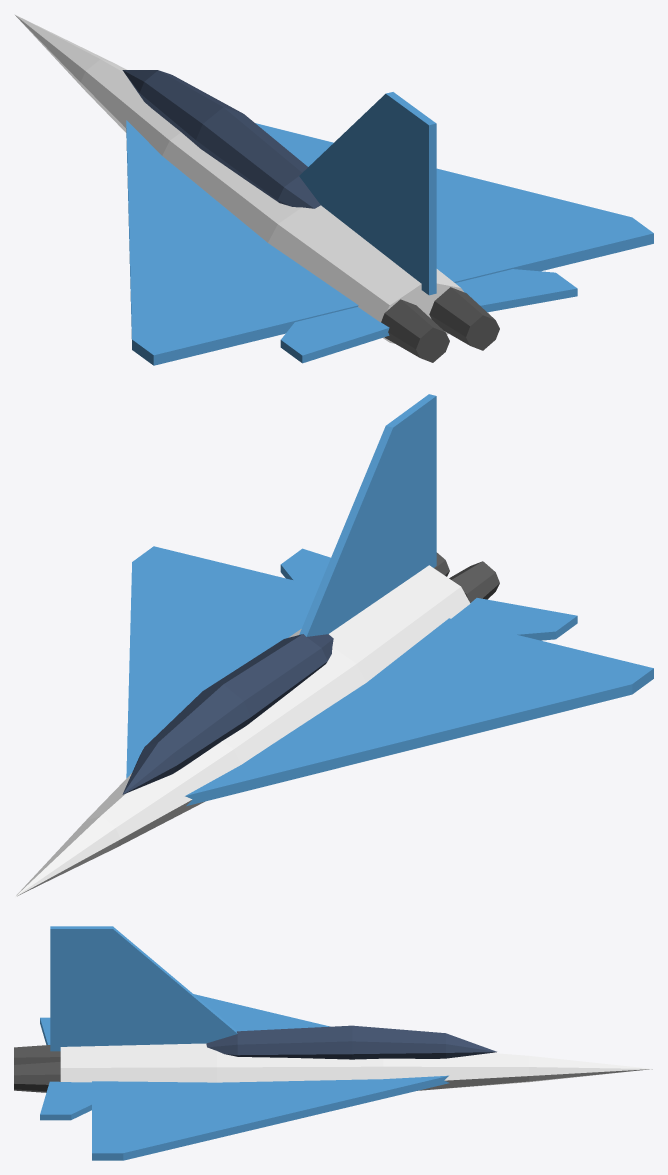
The model's file is player1_delta.glb.
3 renders of one model, top to bottom at view 1: azimuth 30°, elevation 25°; view 2: azimuth 150°, elevation 25°; view 3: azimuth 270°, elevation 25°, orthographic. The views are drawn at different scales.
Parts seen in each view (by area): view 1: P1_Wings, P1_Fuselage, P1_TailFin, P1_Cockpit, P1_Tailplanes, P1_Exhausts; view 2: P1_Wings, P1_Fuselage, P1_TailFin, P1_Cockpit, P1_Tailplanes, P1_Exhausts; view 3: P1_Wings, P1_TailFin, P1_Fuselage, P1_Cockpit, P1_Tailplanes, P1_Exhausts.
Boxes of the visible parts, x1=… form: P1_Wings: x1=126, y1=120, x2=653, y2=365; P1_Fuselage: x1=14, y1=14, x2=463, y2=343; P1_TailFin: x1=299, y1=92, x2=436, y2=295; P1_Cockpit: x1=122, y1=70, x2=320, y2=208; P1_Tailplanes: x1=280, y1=269, x2=577, y2=363; P1_Exhausts: x1=381, y1=287, x2=499, y2=362; P1_Wings: x1=126, y1=546, x2=653, y2=806; P1_Fuselage: x1=14, y1=565, x2=470, y2=897; P1_TailFin: x1=299, y1=394, x2=436, y2=636; P1_Cockpit: x1=122, y1=634, x2=333, y2=794; P1_Tailplanes: x1=280, y1=548, x2=577, y2=640; P1_Exhausts: x1=434, y1=552, x2=499, y2=602; P1_Wings: x1=92, y1=994, x2=449, y2=1160; P1_TailFin: x1=50, y1=926, x2=237, y2=1051; P1_Fuselage: x1=60, y1=1043, x2=652, y2=1090; P1_Cockpit: x1=206, y1=1025, x2=496, y2=1059; P1_Tailplanes: x1=40, y1=1017, x2=91, y2=1120; P1_Exhausts: x1=14, y1=1045, x2=60, y2=1092.
Bounding box in the file's own units: 4 × 1.8 × 6.15.
